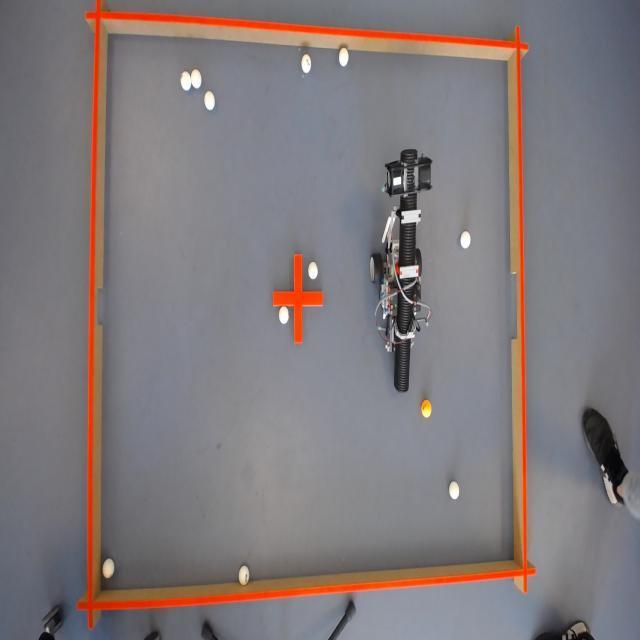orange: (419, 400, 432, 420)
robot: (377, 160, 428, 358)
white: (238, 565, 250, 590), (203, 89, 216, 111), (101, 558, 114, 580), (337, 46, 350, 67), (447, 479, 460, 499), (306, 260, 318, 280), (460, 229, 472, 249), (178, 74, 191, 92), (278, 304, 288, 324), (300, 54, 310, 73), (192, 67, 200, 89)
